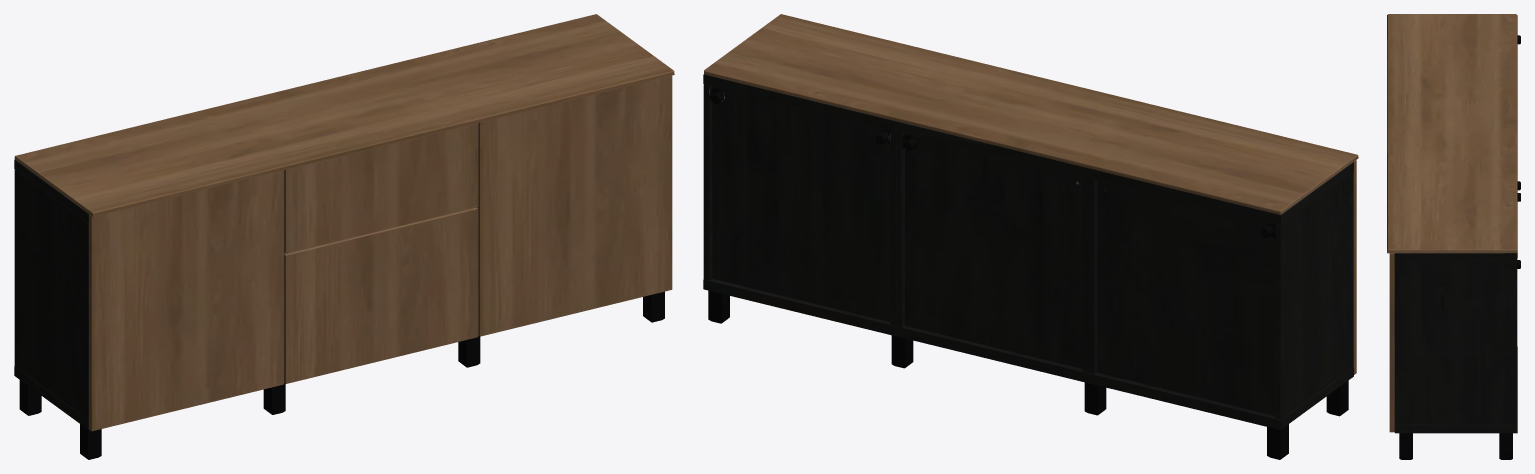
3 views of the same model, side by side, from view 1: azimuth 30°, elevation 25°; view 2: azimuth 150°, elevation 25°; view 3: azimuth 270°, elevation 25° (orthographic). The views are drawn at different scales.
Visible parts, largest first — view 1: 89612266_wall_mounted_cabinet_combination; view 2: 89612266_wall_mounted_cabinet_combination; view 3: 89612266_wall_mounted_cabinet_combination.
Part boxes in pixels (<box>): 89612266_wall_mounted_cabinet_combination: <box>14,14,674,459</box>; 89612266_wall_mounted_cabinet_combination: <box>703,14,1358,459</box>; 89612266_wall_mounted_cabinet_combination: <box>1387,14,1520,459</box>.
Size of the model in its own units: 1.8 by 0.7525 by 0.4315.
1 material, 1 textured.
